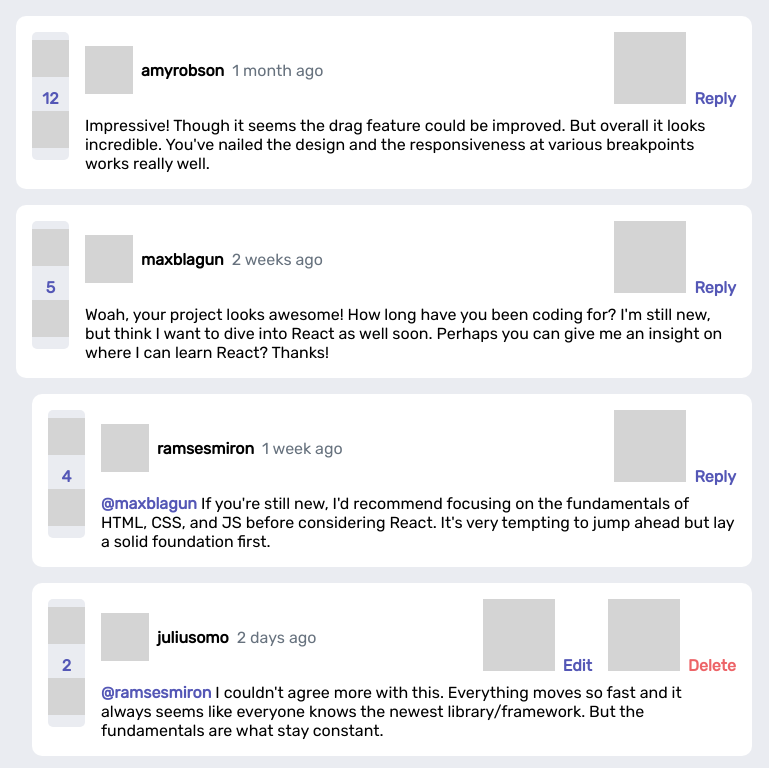
Test: App Integration Tests › Replying › should add a reply to a comment
Click the button "Reply" in the row of "1 month ago". click: click(675, 70)
box: [614,32,736,108]
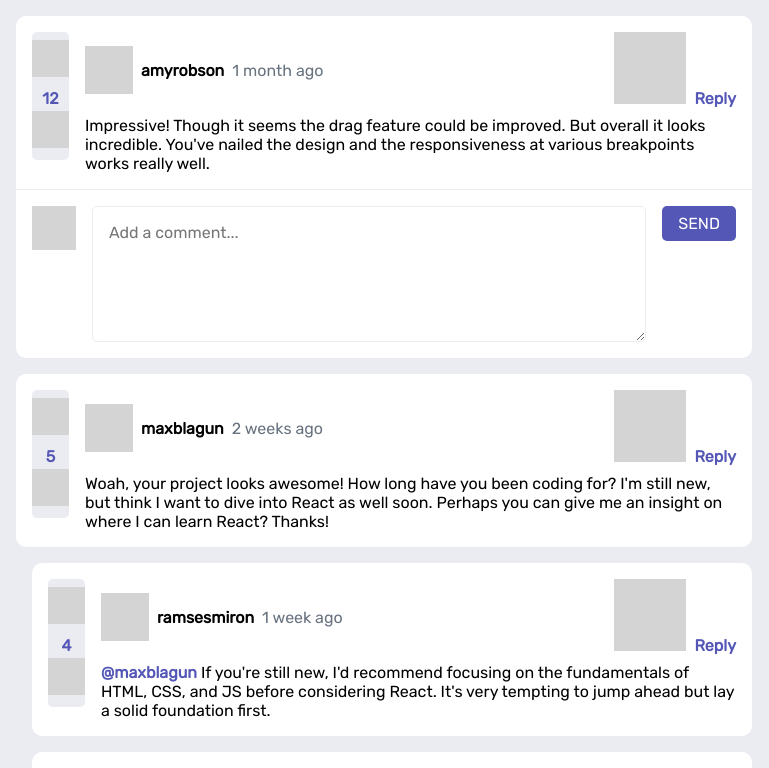
Type "My reply" into the text box with placeholder "Add a comment...". click: (369, 274)
box: [92,206,646,342]
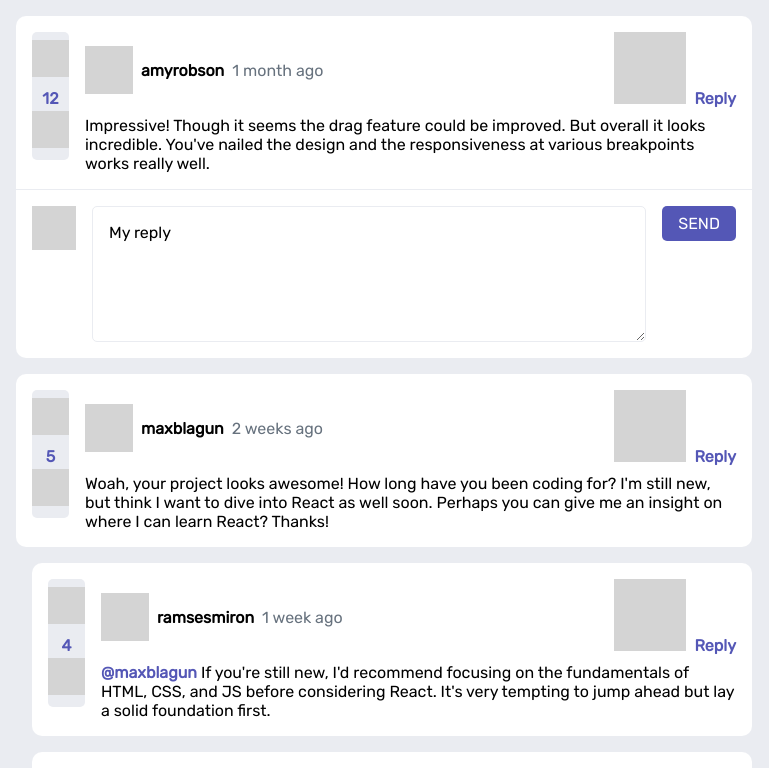
Click the button "send". click: click(699, 224)
box: [662,206,736,241]
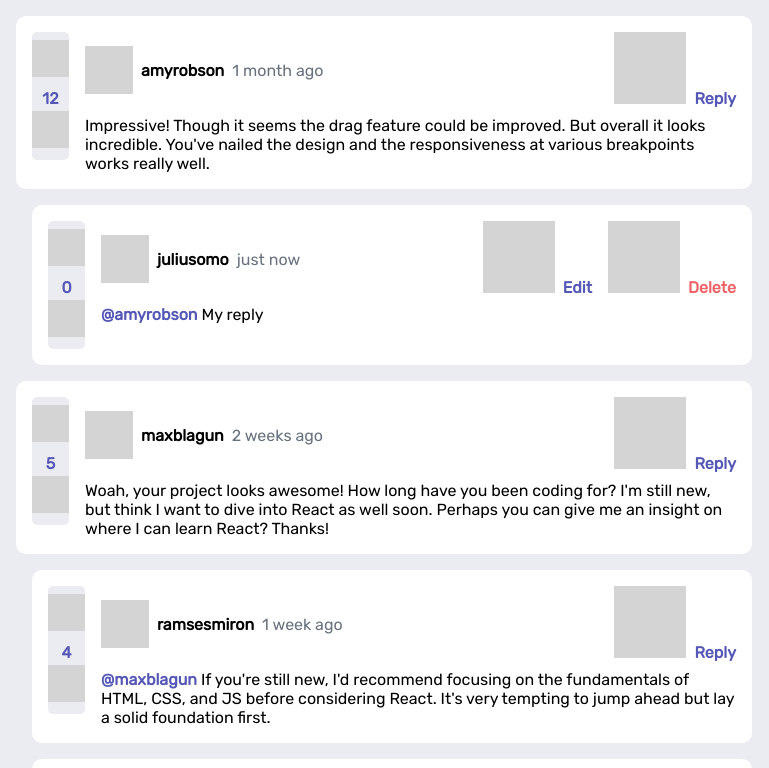
Now the text "My reply" is shown, box [202,305,264,324]
